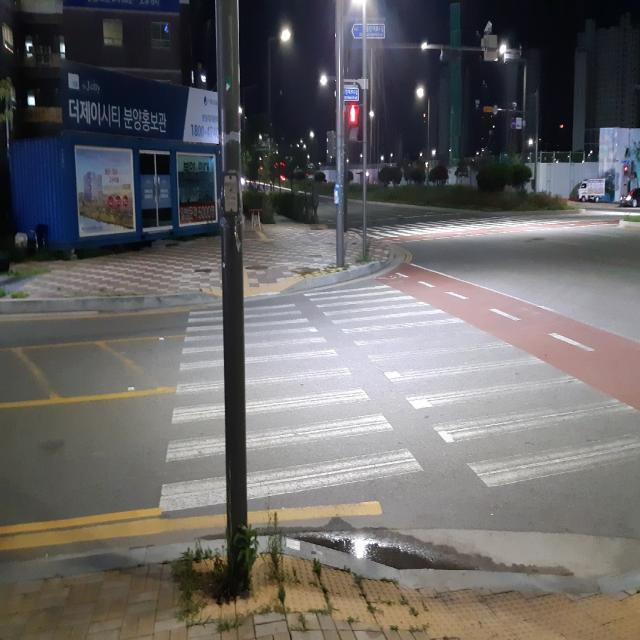빨간불: (348, 103, 359, 146)
횡단보도: (156, 280, 640, 518)
